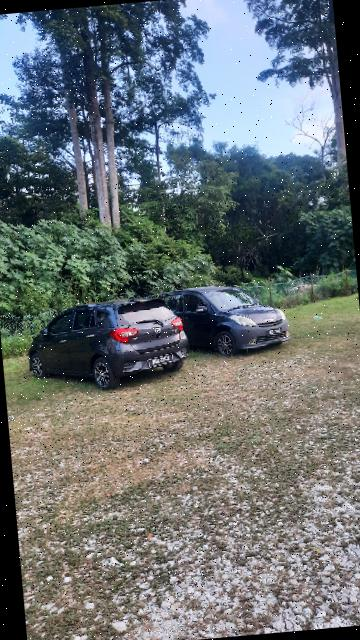License_Plate: (146, 353, 177, 368), (267, 327, 286, 336)
car: (22, 294, 201, 396), (156, 279, 294, 361)
